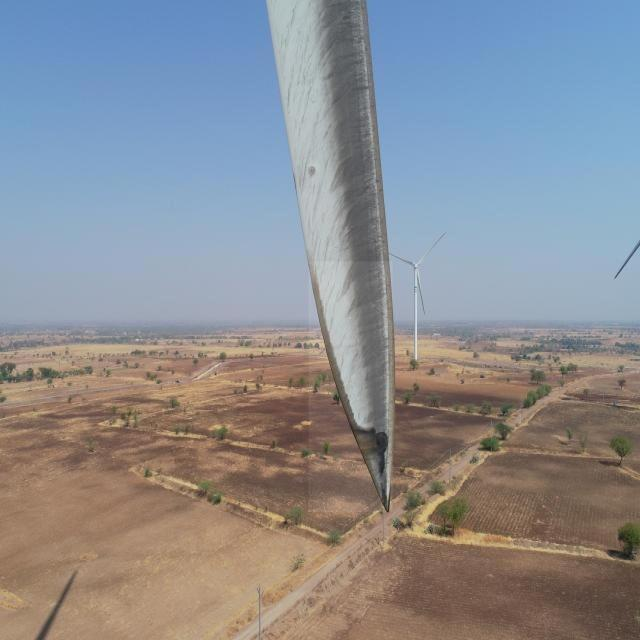Dirt: (284, 0, 394, 429)
oil_leakage: (309, 262, 392, 512)
